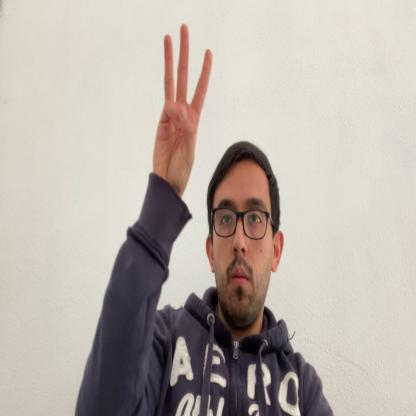W: (152, 21, 212, 190)
